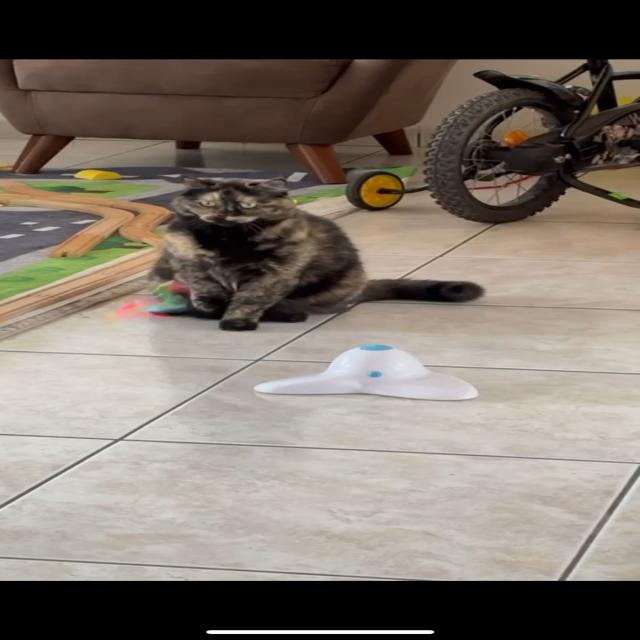authorized: (147, 175, 485, 331)
